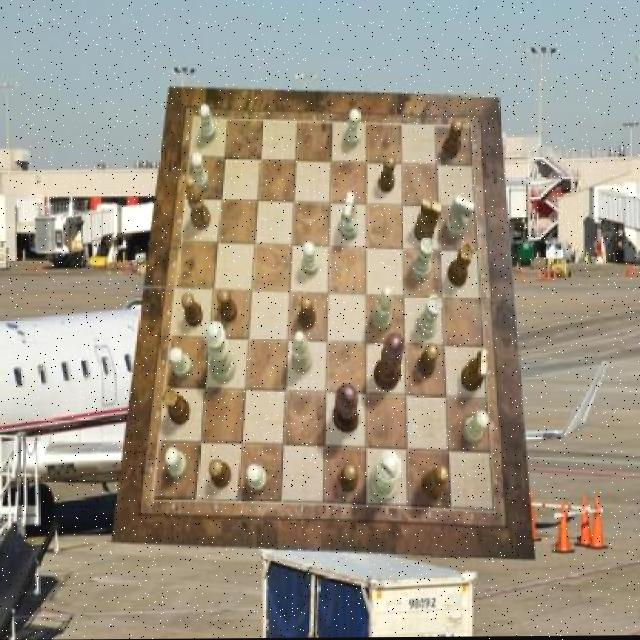bishop: (186, 177, 211, 231), (422, 467, 448, 503)
black-bishop: (334, 386, 360, 433)
black-king: (414, 199, 441, 245), (462, 351, 489, 394)
black-knight: (181, 291, 204, 326), (443, 121, 463, 158), (418, 344, 439, 378), (217, 288, 237, 322), (379, 156, 396, 194), (210, 460, 232, 489), (340, 464, 360, 494), (299, 297, 316, 331)
black-pawn: (374, 333, 404, 393)
black-queen: (448, 243, 474, 287), (163, 387, 191, 425)
black-rook: (372, 288, 395, 332), (292, 332, 313, 375)
white-bishop: (371, 451, 403, 504)
white-king: (446, 195, 476, 238), (338, 193, 358, 241)
white-knight: (463, 411, 489, 445), (165, 447, 187, 479), (170, 348, 192, 379), (200, 105, 217, 144), (191, 154, 208, 192), (344, 109, 360, 147), (303, 241, 320, 276), (248, 464, 268, 491)
white-pawn: (205, 321, 237, 384)
white-queen: (410, 237, 434, 282), (417, 296, 441, 340)
